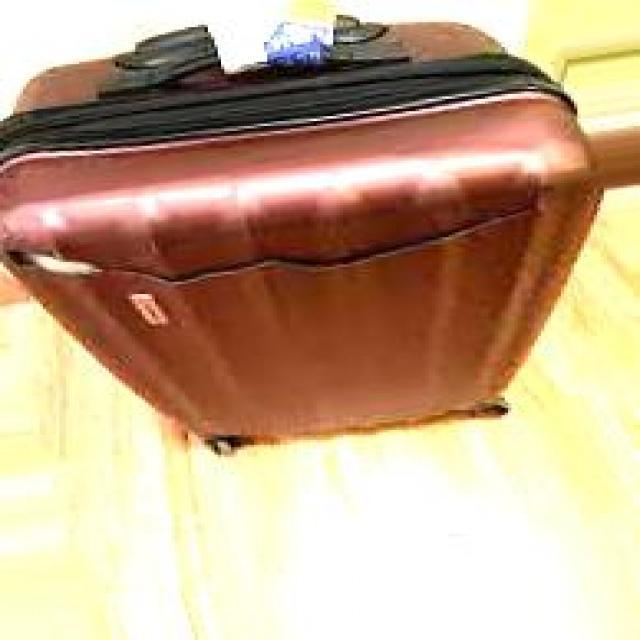Damage-bag: (0, 202, 539, 281)
